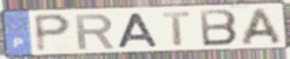A: (239, 7, 284, 47), (116, 12, 161, 49)
B: (198, 8, 240, 48)
P: (32, 12, 74, 54)
R: (73, 13, 117, 51)
T: (160, 10, 193, 47)
